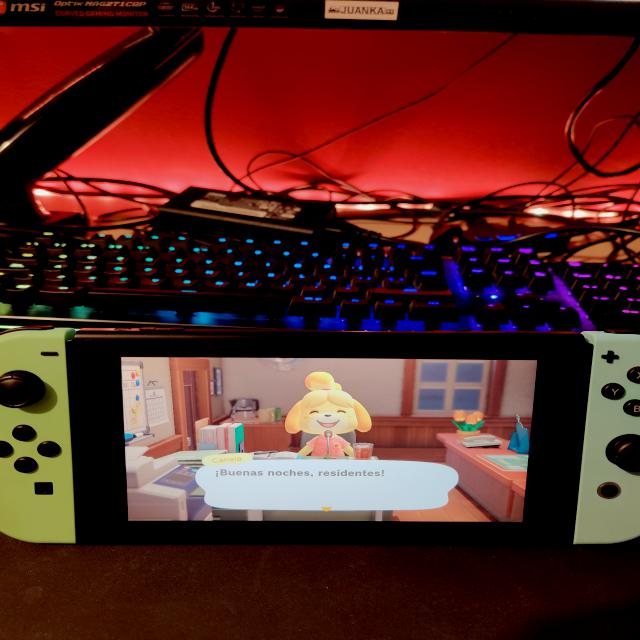text_bubble: (198, 453, 461, 515)
